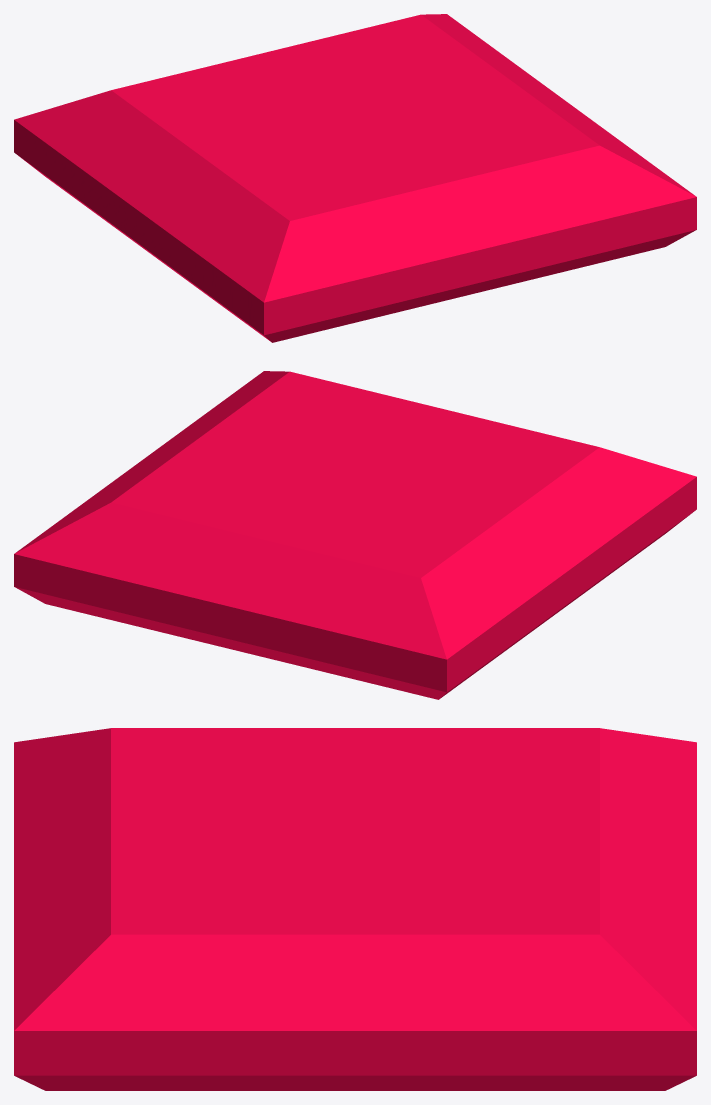
File: Jem_20.fbx
3 views of the same model, one above another, from view 1: azimuth 30°, elevation 25°; view 2: azimuth 150°, elevation 25°; view 3: azimuth 270°, elevation 25° (orthographic). The views are drawn at different scales.
Parts seen in each view (by area): view 1: Jem_20; view 2: Jem_20; view 3: Jem_20.
Part boxes in pixels (left/top/right/bottom): Jem_20: left=14, top=14, right=696, bottom=342; Jem_20: left=14, top=371, right=696, bottom=699; Jem_20: left=14, top=728, right=696, bottom=1090.
Size of the model in its own units: 40 by 8.3 by 40.
